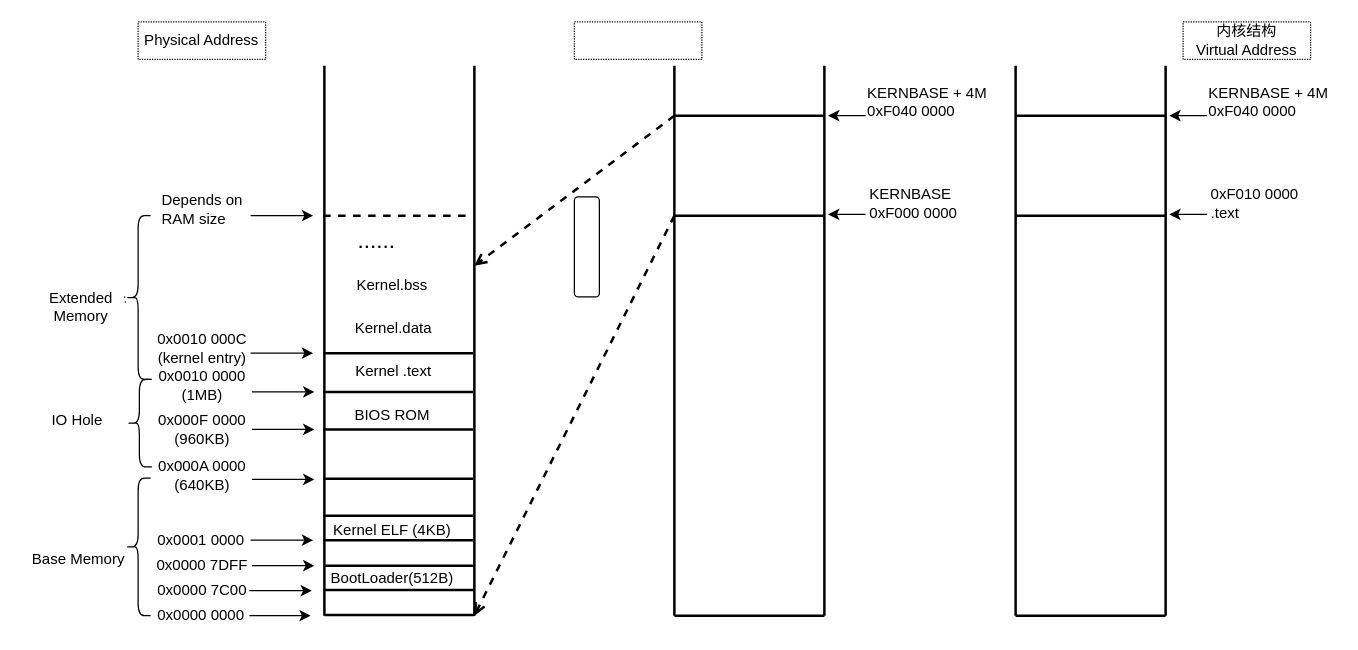
This 1358x650 diagram has some shape labels left out. The centre of each missing label's shape, as x and y in pixels:
Mapping: (x=586, y=246)
Virtual Address: (x=637, y=40)
